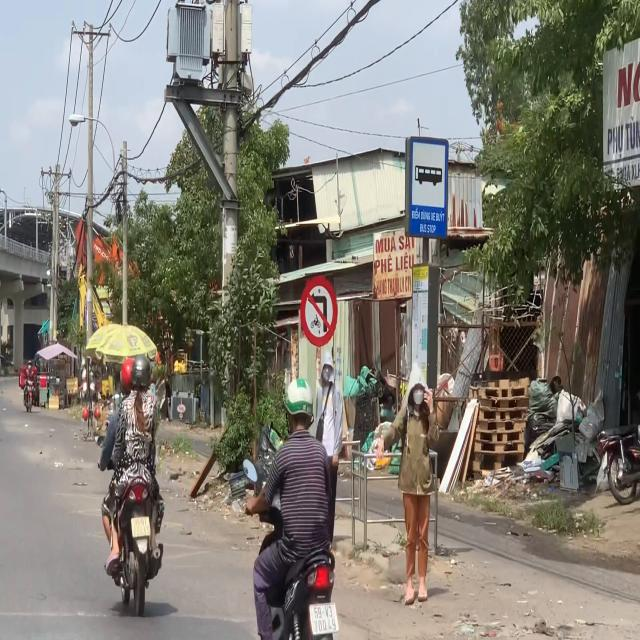Ben xe buyt: (404, 132, 452, 242)
Cam re trai: (300, 275, 339, 349)
